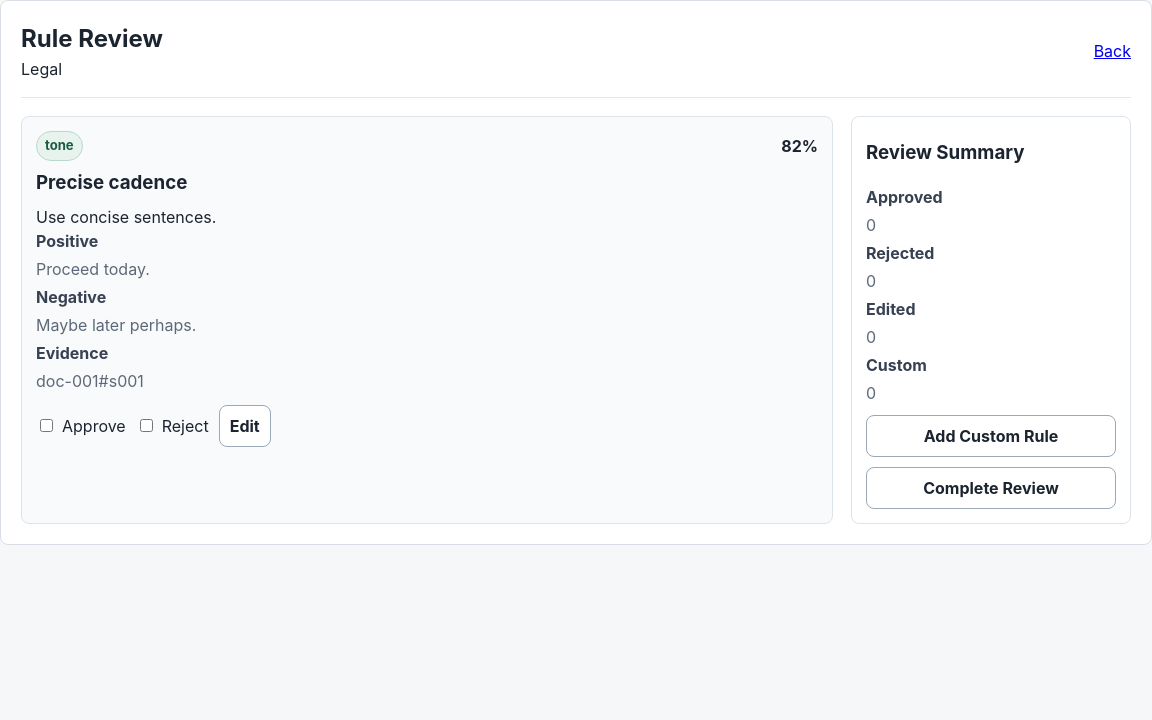
Test: RuleReviewPage › reject toggle works
Click the checkbox labelled "Reject" at (146, 426), box [140,419,153,432]
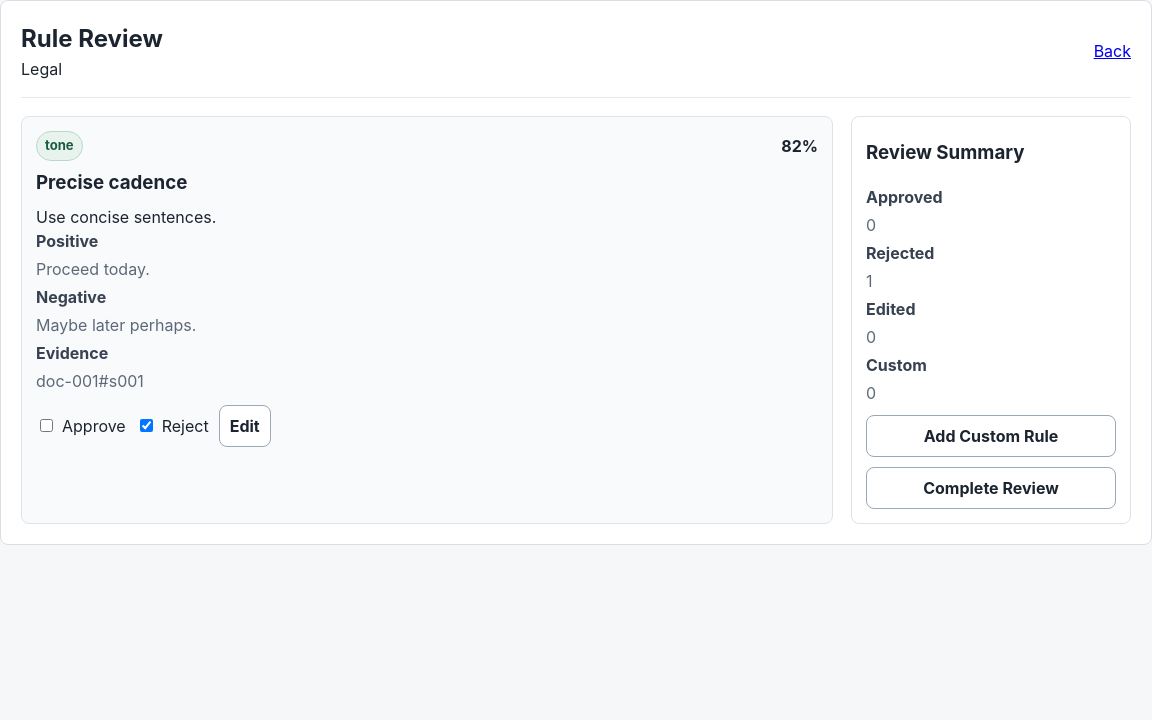
expect the text "Rejected" is shown: met, box [866,243,934,263]
expect the text "1" is shown: met, box [866,271,872,291]
